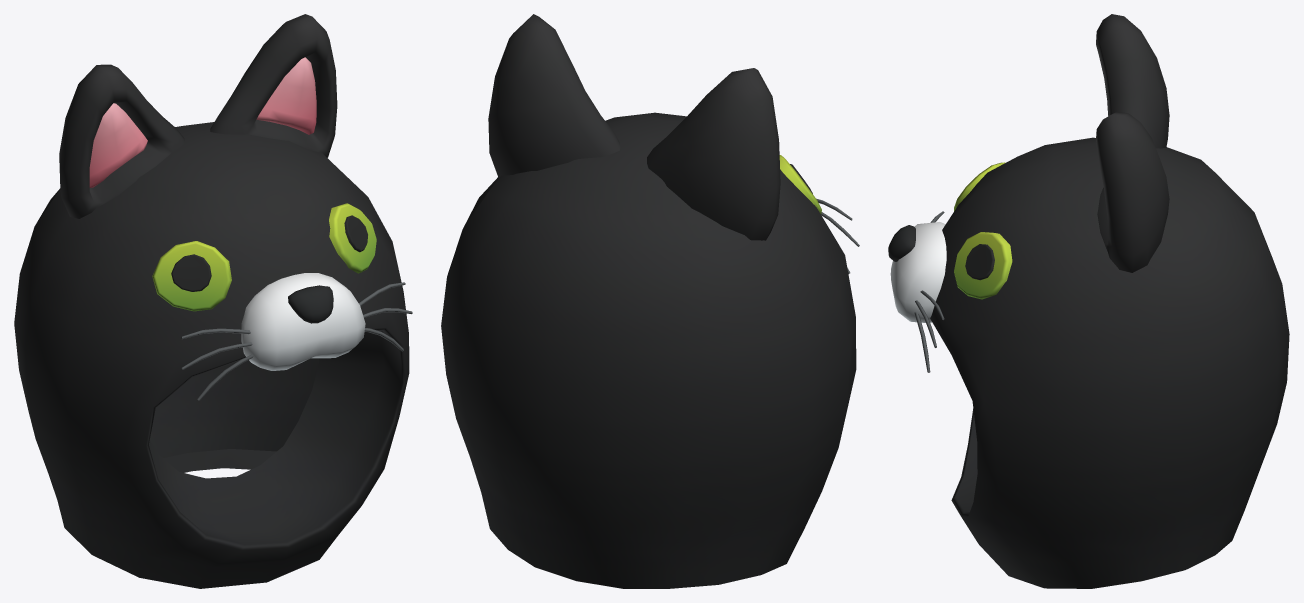
File: Hat_50.glb
3 views of the same model, side by side, from view 1: azimuth 30°, elevation 25°; view 2: azimuth 150°, elevation 25°; view 3: azimuth 270°, elevation 25° (orthographic). The views are drawn at different scales.
Visible parts, largest first — view 1: Hat_50; view 2: Hat_50; view 3: Hat_50.
Boxes of the visible parts, box(x1,y1,x2,y2) form: Hat_50: box(14, 14, 412, 588); Hat_50: box(441, 14, 859, 588); Hat_50: box(888, 14, 1289, 588).
Size of the model in its own units: 0.5819 by 0.8043 by 0.6013.
1 material, 1 textured.
